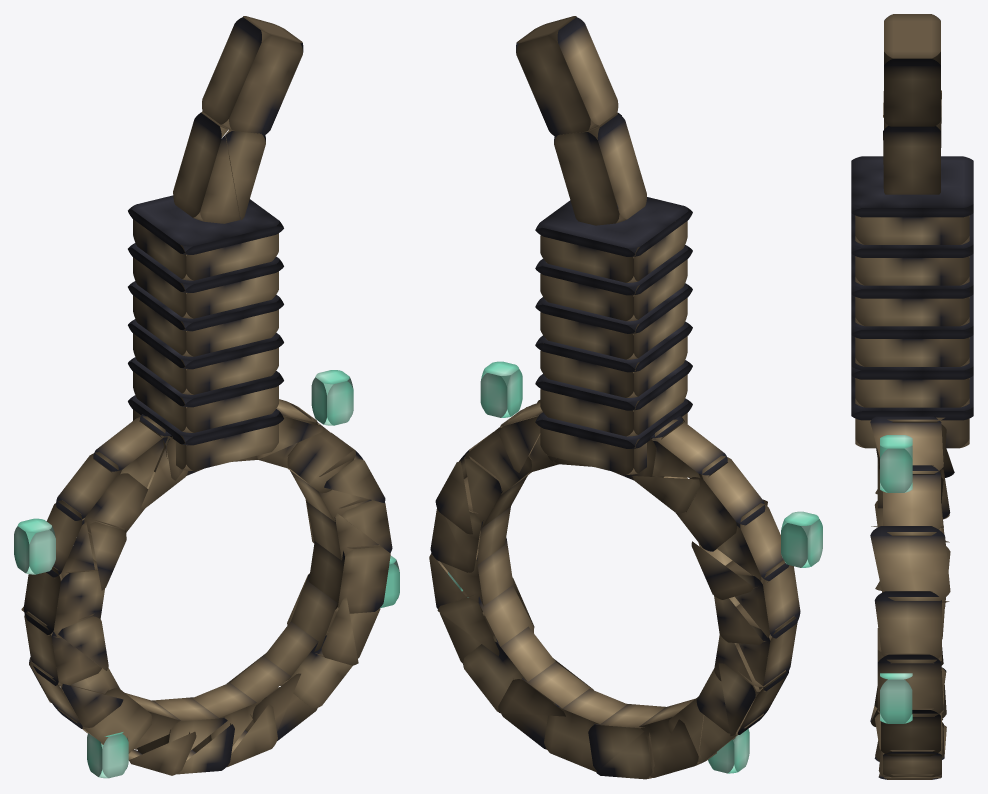
File: hangmans_noose.obj
3 renders of one model, left to right at view 1: azimuth 30°, elevation 25°; view 2: azimuth 150°, elevation 25°; view 3: azimuth 270°, elevation 25°, orthographic. The views are drawn at different scales.
Parts seen in each view (by area): view 1: lit, fire; view 2: lit, fire; view 3: lit, fire.
Part boxes in pixels (x1,y1,x2,y2): lit: (21,16,392,775); fire: (14,370,399,778); lit: (429,16,800,779); fire: (448,361,822,773); lit: (851,14,973,779); fire: (880,435,912,723).
Bounding box in the file's own units: 0.7 × 1.31 × 0.1875.
